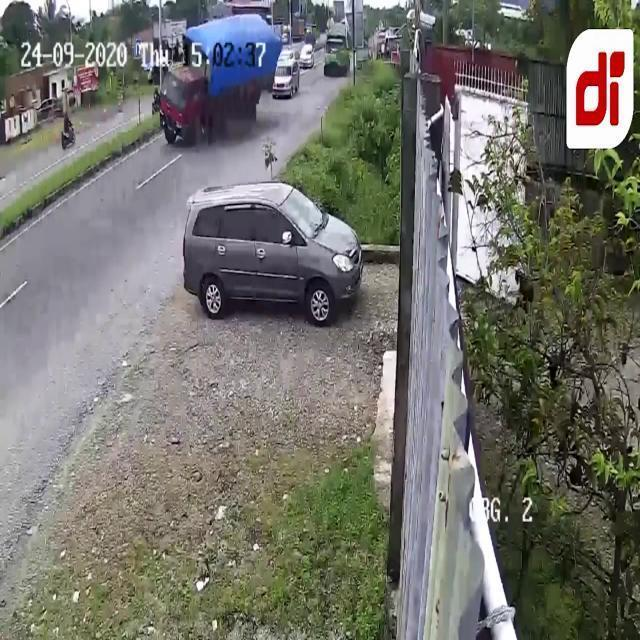accident: (157, 12, 281, 148)
non-accident: (274, 46, 314, 98)
